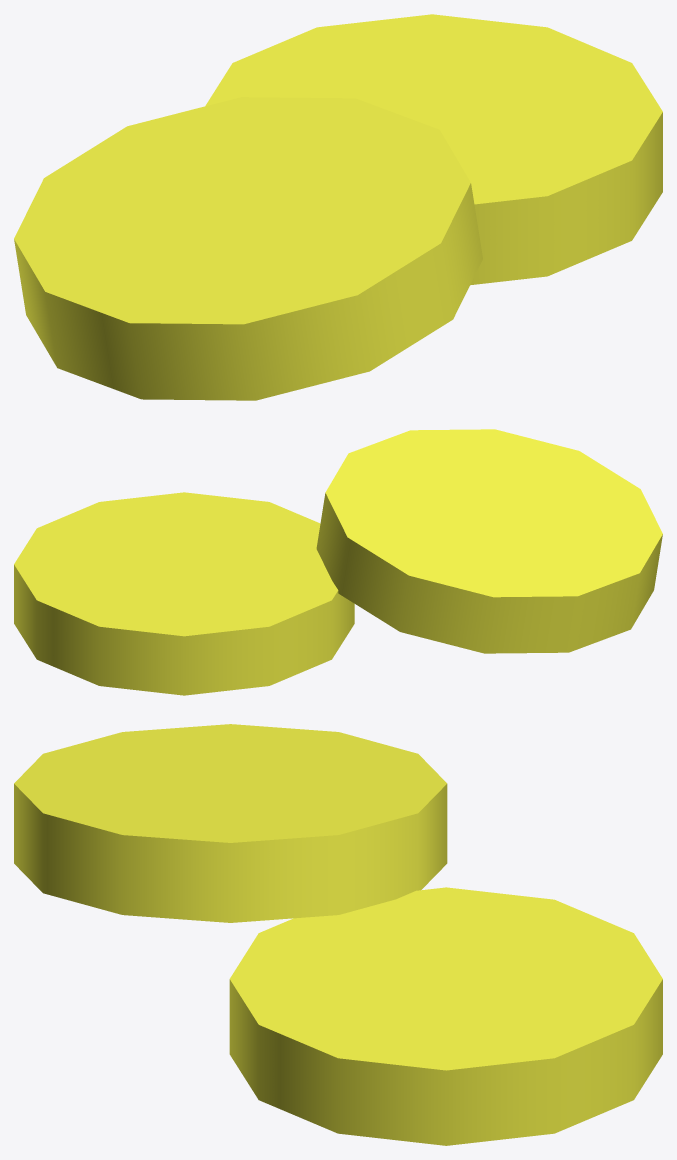
The model's file is Coins 4.glb.
3 views of the same model, one above another, from view 1: azimuth 30°, elevation 25°; view 2: azimuth 150°, elevation 25°; view 3: azimuth 270°, elevation 25° (orthographic). The views are drawn at different scales.
Visible parts, largest first — view 1: coins_4; view 2: coins_4; view 3: coins_4.
Part boxes in pixels (<box>): coins_4: <box>14,14,662,400</box>; coins_4: <box>14,429,662,695</box>; coins_4: <box>14,724,662,1145</box>.
Bounding box in the file's own units: 0.3512 × 0.0826 × 0.2995.
